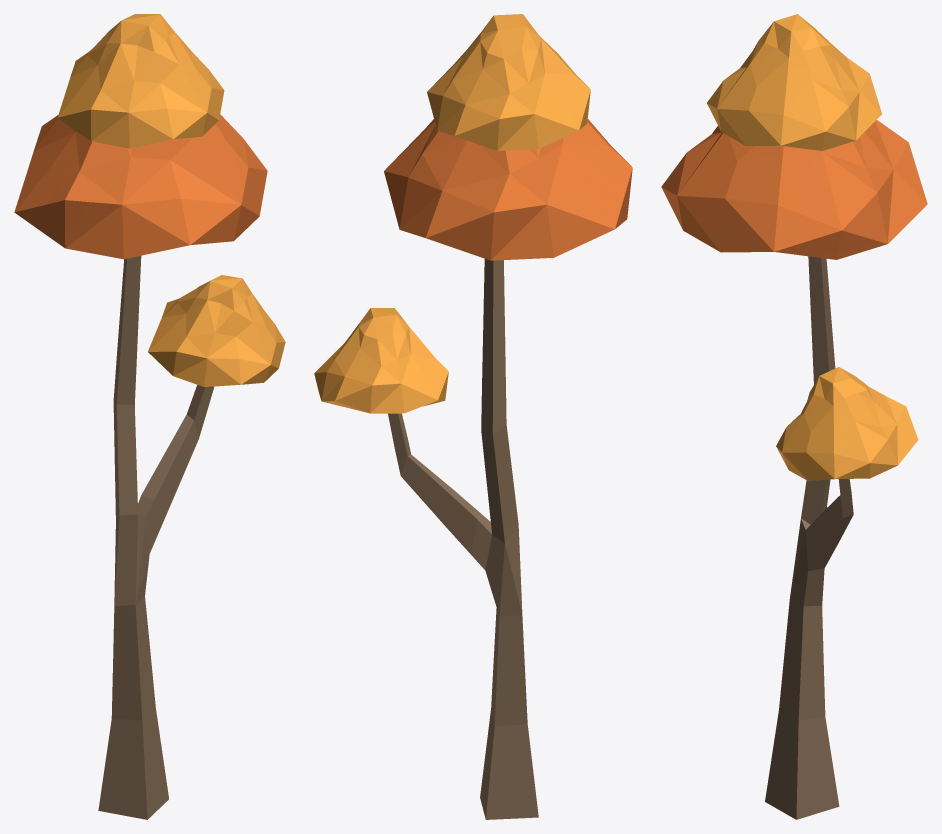
File: Tree_4.gltf
3 renders of one model, left to right at view 1: azimuth 30°, elevation 25°; view 2: azimuth 150°, elevation 25°; view 3: azimuth 270°, elevation 25°, orthographic.
Parts seen in each view (by area): view 1: Tree_4; view 2: Tree_4; view 3: Tree_4.
Part boxes in pixels (bbox=[...]): Tree_4: bbox=[14, 14, 285, 819]; Tree_4: bbox=[314, 14, 632, 819]; Tree_4: bbox=[661, 14, 927, 819].
Bounding box in the file's own units: 0.8316 × 2.23 × 0.688.
1 material, 1 textured.
